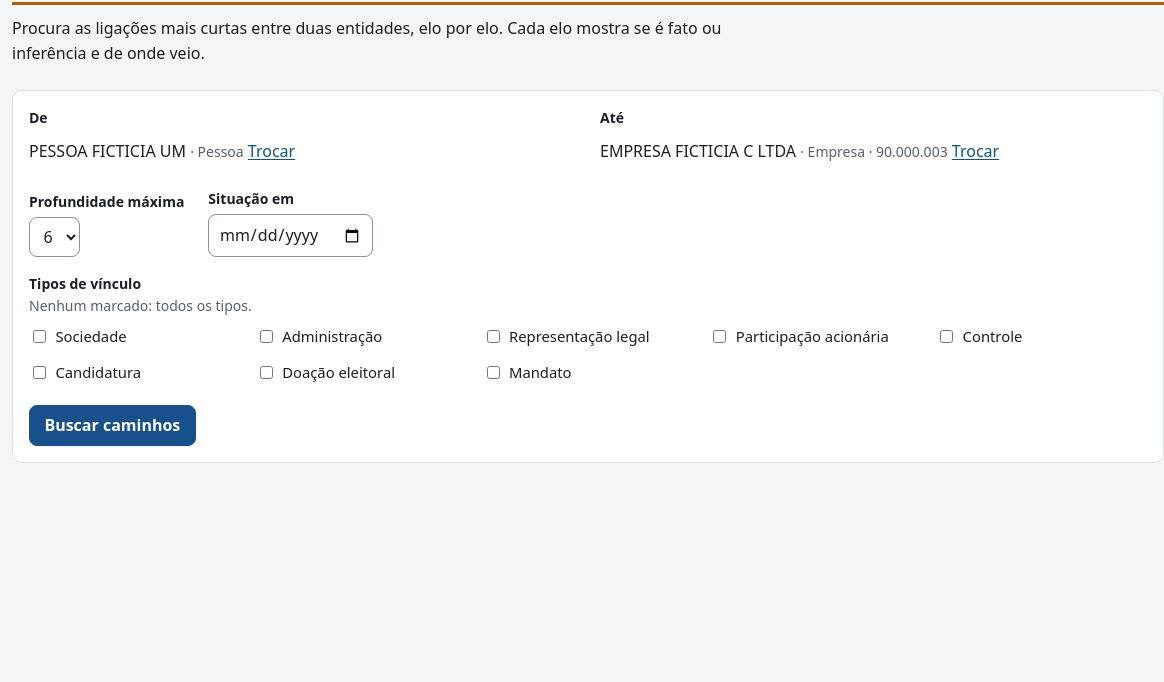
it: PathsPage › elo de resultado antigo sem "closed": encerrado pelas datas; com "closed", pelo campo
Expected: the text "EMPRESA FICTICIA C LTDA" is shown, [600, 140, 796, 162]
Click the button "Buscar caminhos" at (112, 425), box [29, 404, 196, 446]
(page scrolled)
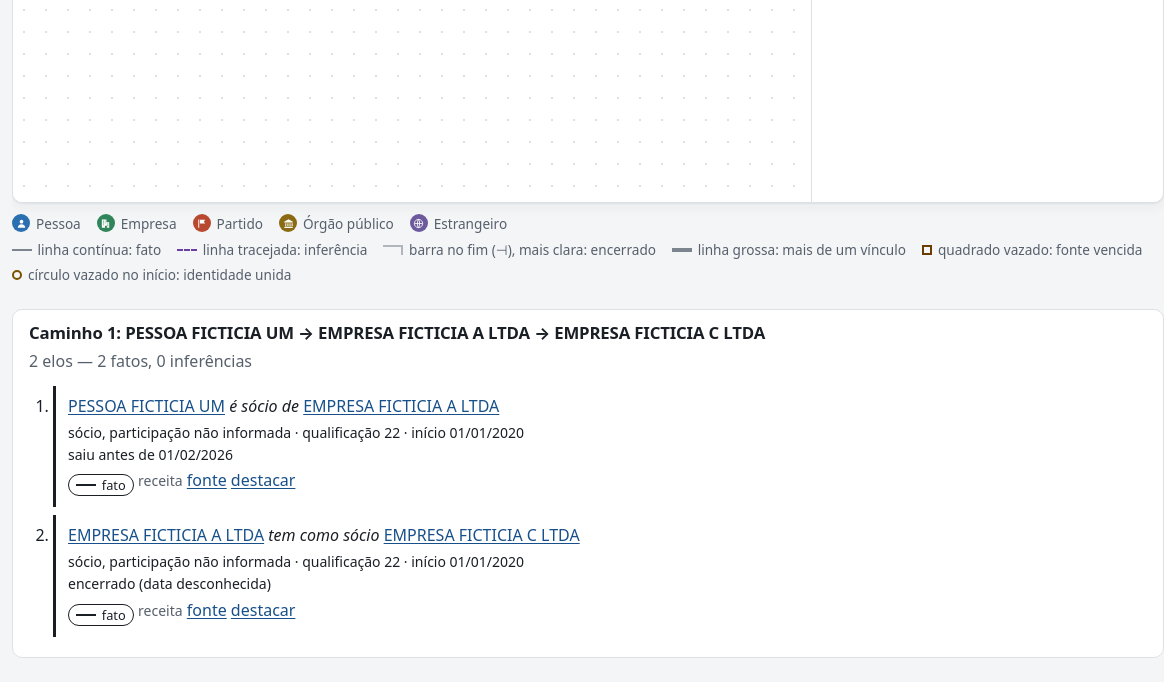
Now the list item that starts with "PESSOA FICTICIA UM" shows "saiu antes de 01/02/2026", box [68, 444, 233, 464]
Now the list item that starts with "EMPRESA FICTICIA A LTDA" shows "encerrado (data desconhecida)", box [68, 574, 271, 593]
